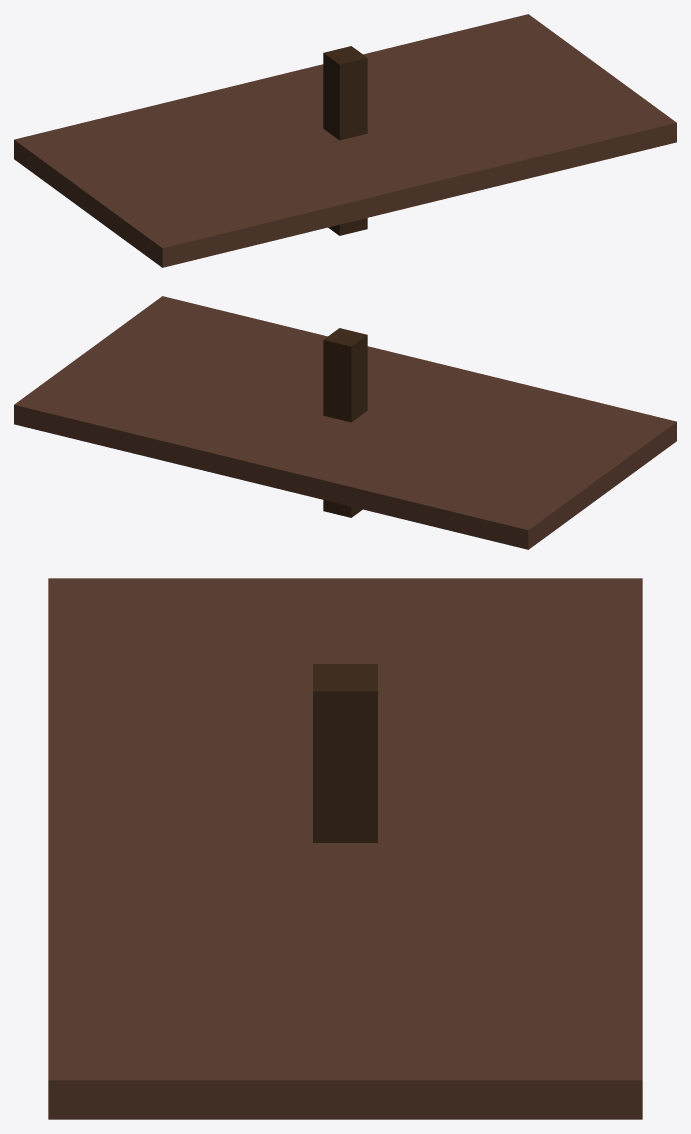
The model's file is dining_table.glb.
3 renders of one model, top to bottom at view 1: azimuth 30°, elevation 25°; view 2: azimuth 150°, elevation 25°; view 3: azimuth 270°, elevation 25°, orthographic. The views are drawn at different scales.
Visible parts, largest first — view 1: top, leg_1; view 2: top, leg_1; view 3: top, leg_1.
Boxes of the visible parts, box(x1,y1,x2,y2) form: top: box(14, 14, 676, 267); leg_1: box(323, 46, 367, 235); top: box(14, 296, 676, 549); leg_1: box(323, 328, 367, 517); top: box(48, 578, 642, 1119); leg_1: box(313, 664, 377, 842).
Bounding box in the file's own units: 2.2 × 0.7 × 1.1.
